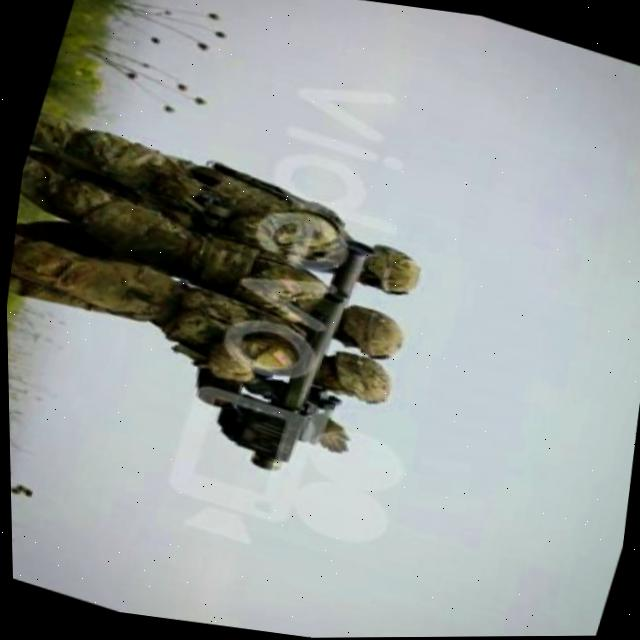rocket: (234, 222, 385, 491)
